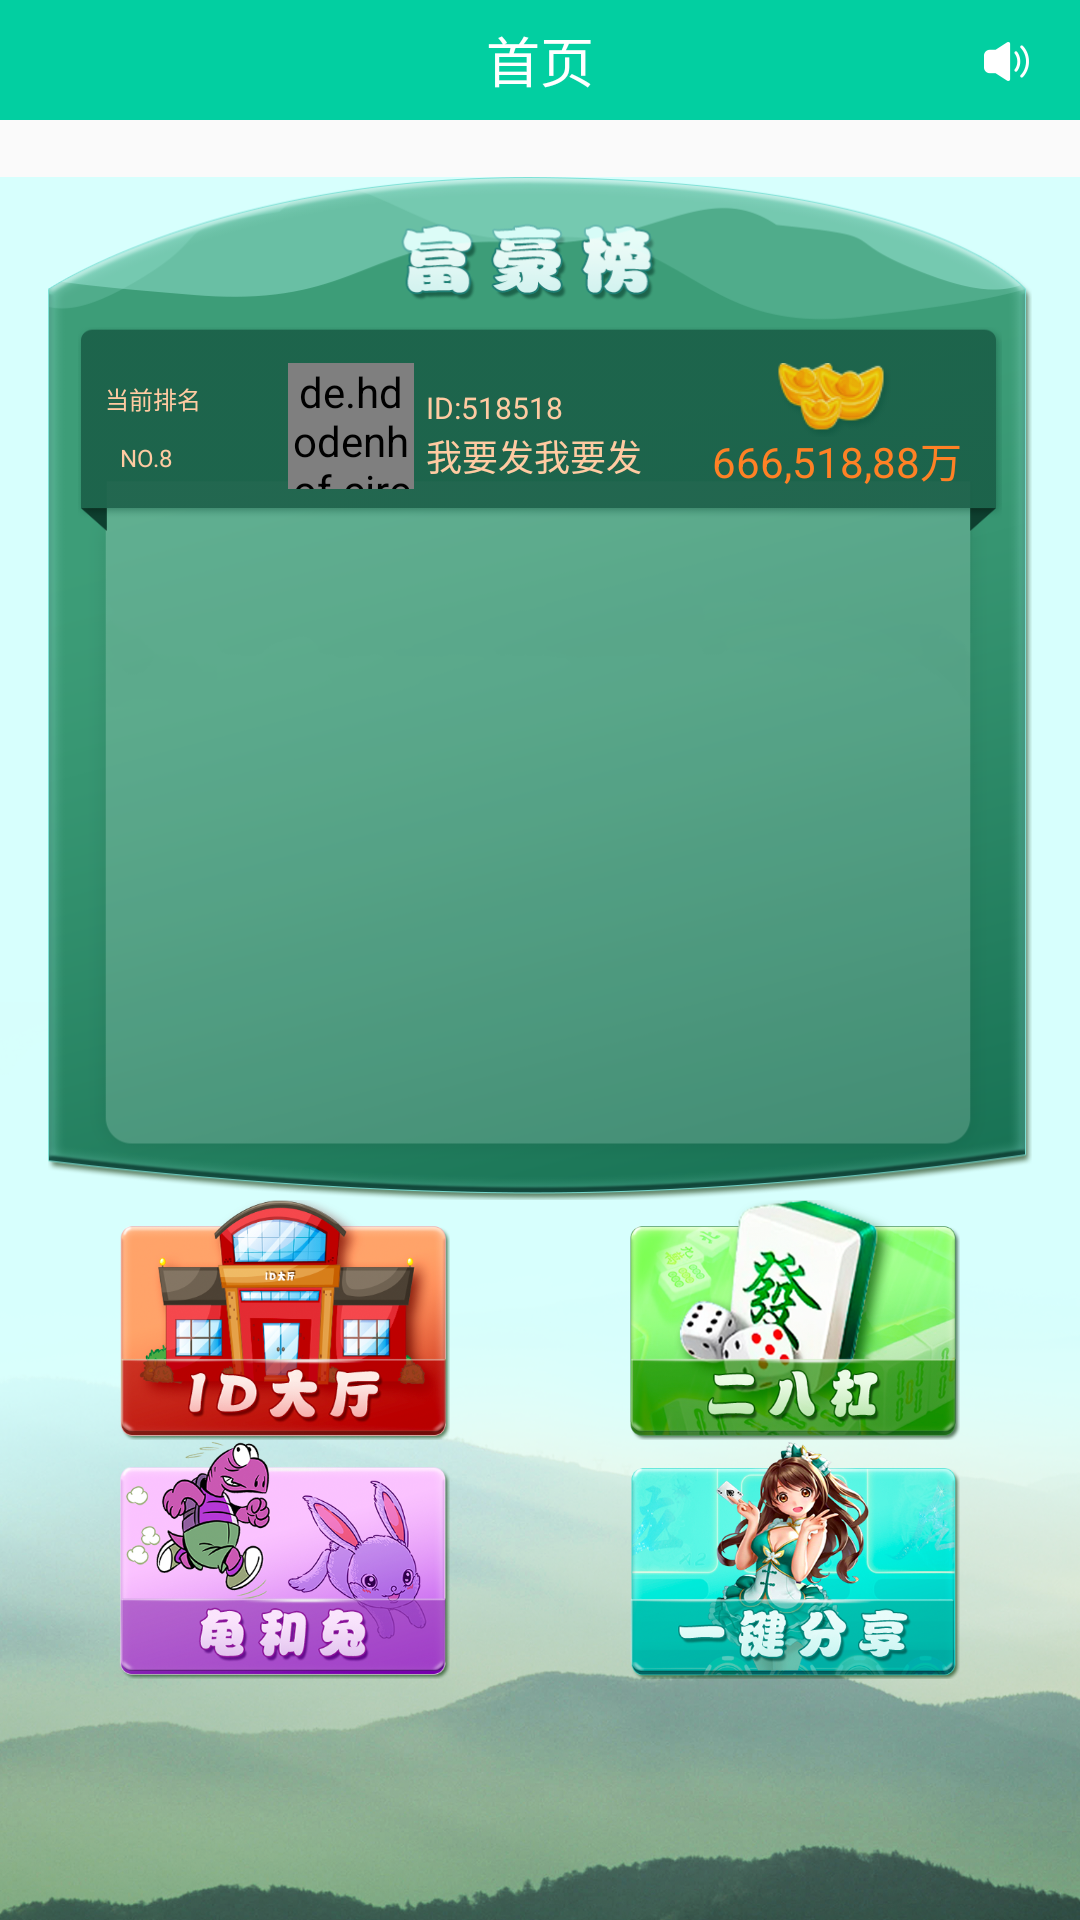

Named icons in this screenshot (1080x1920) and their centers, (x=x, y=y):
muisc: (x=1006, y=61)
yunabao: (x=831, y=396)
